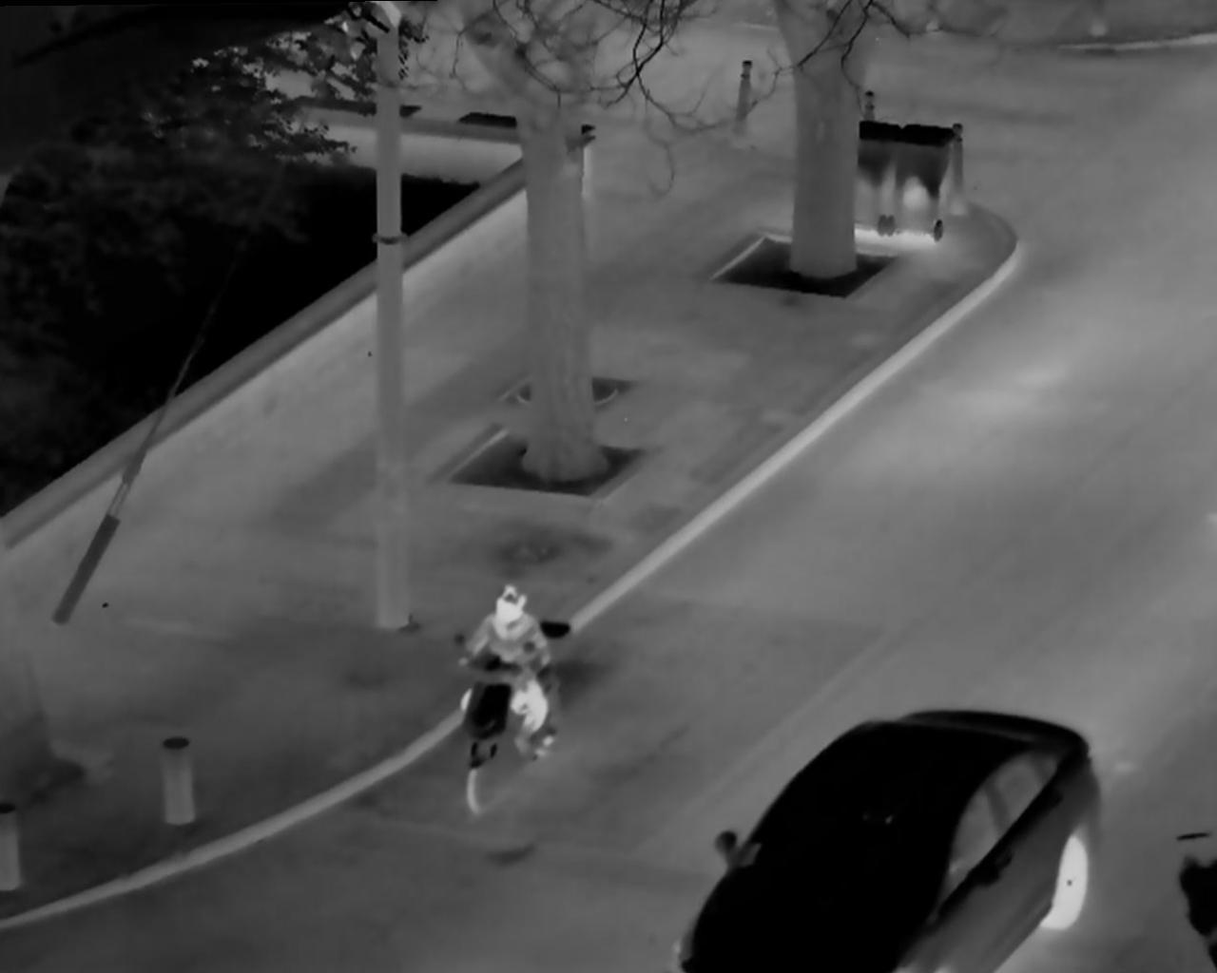person: (454, 576, 557, 772)
